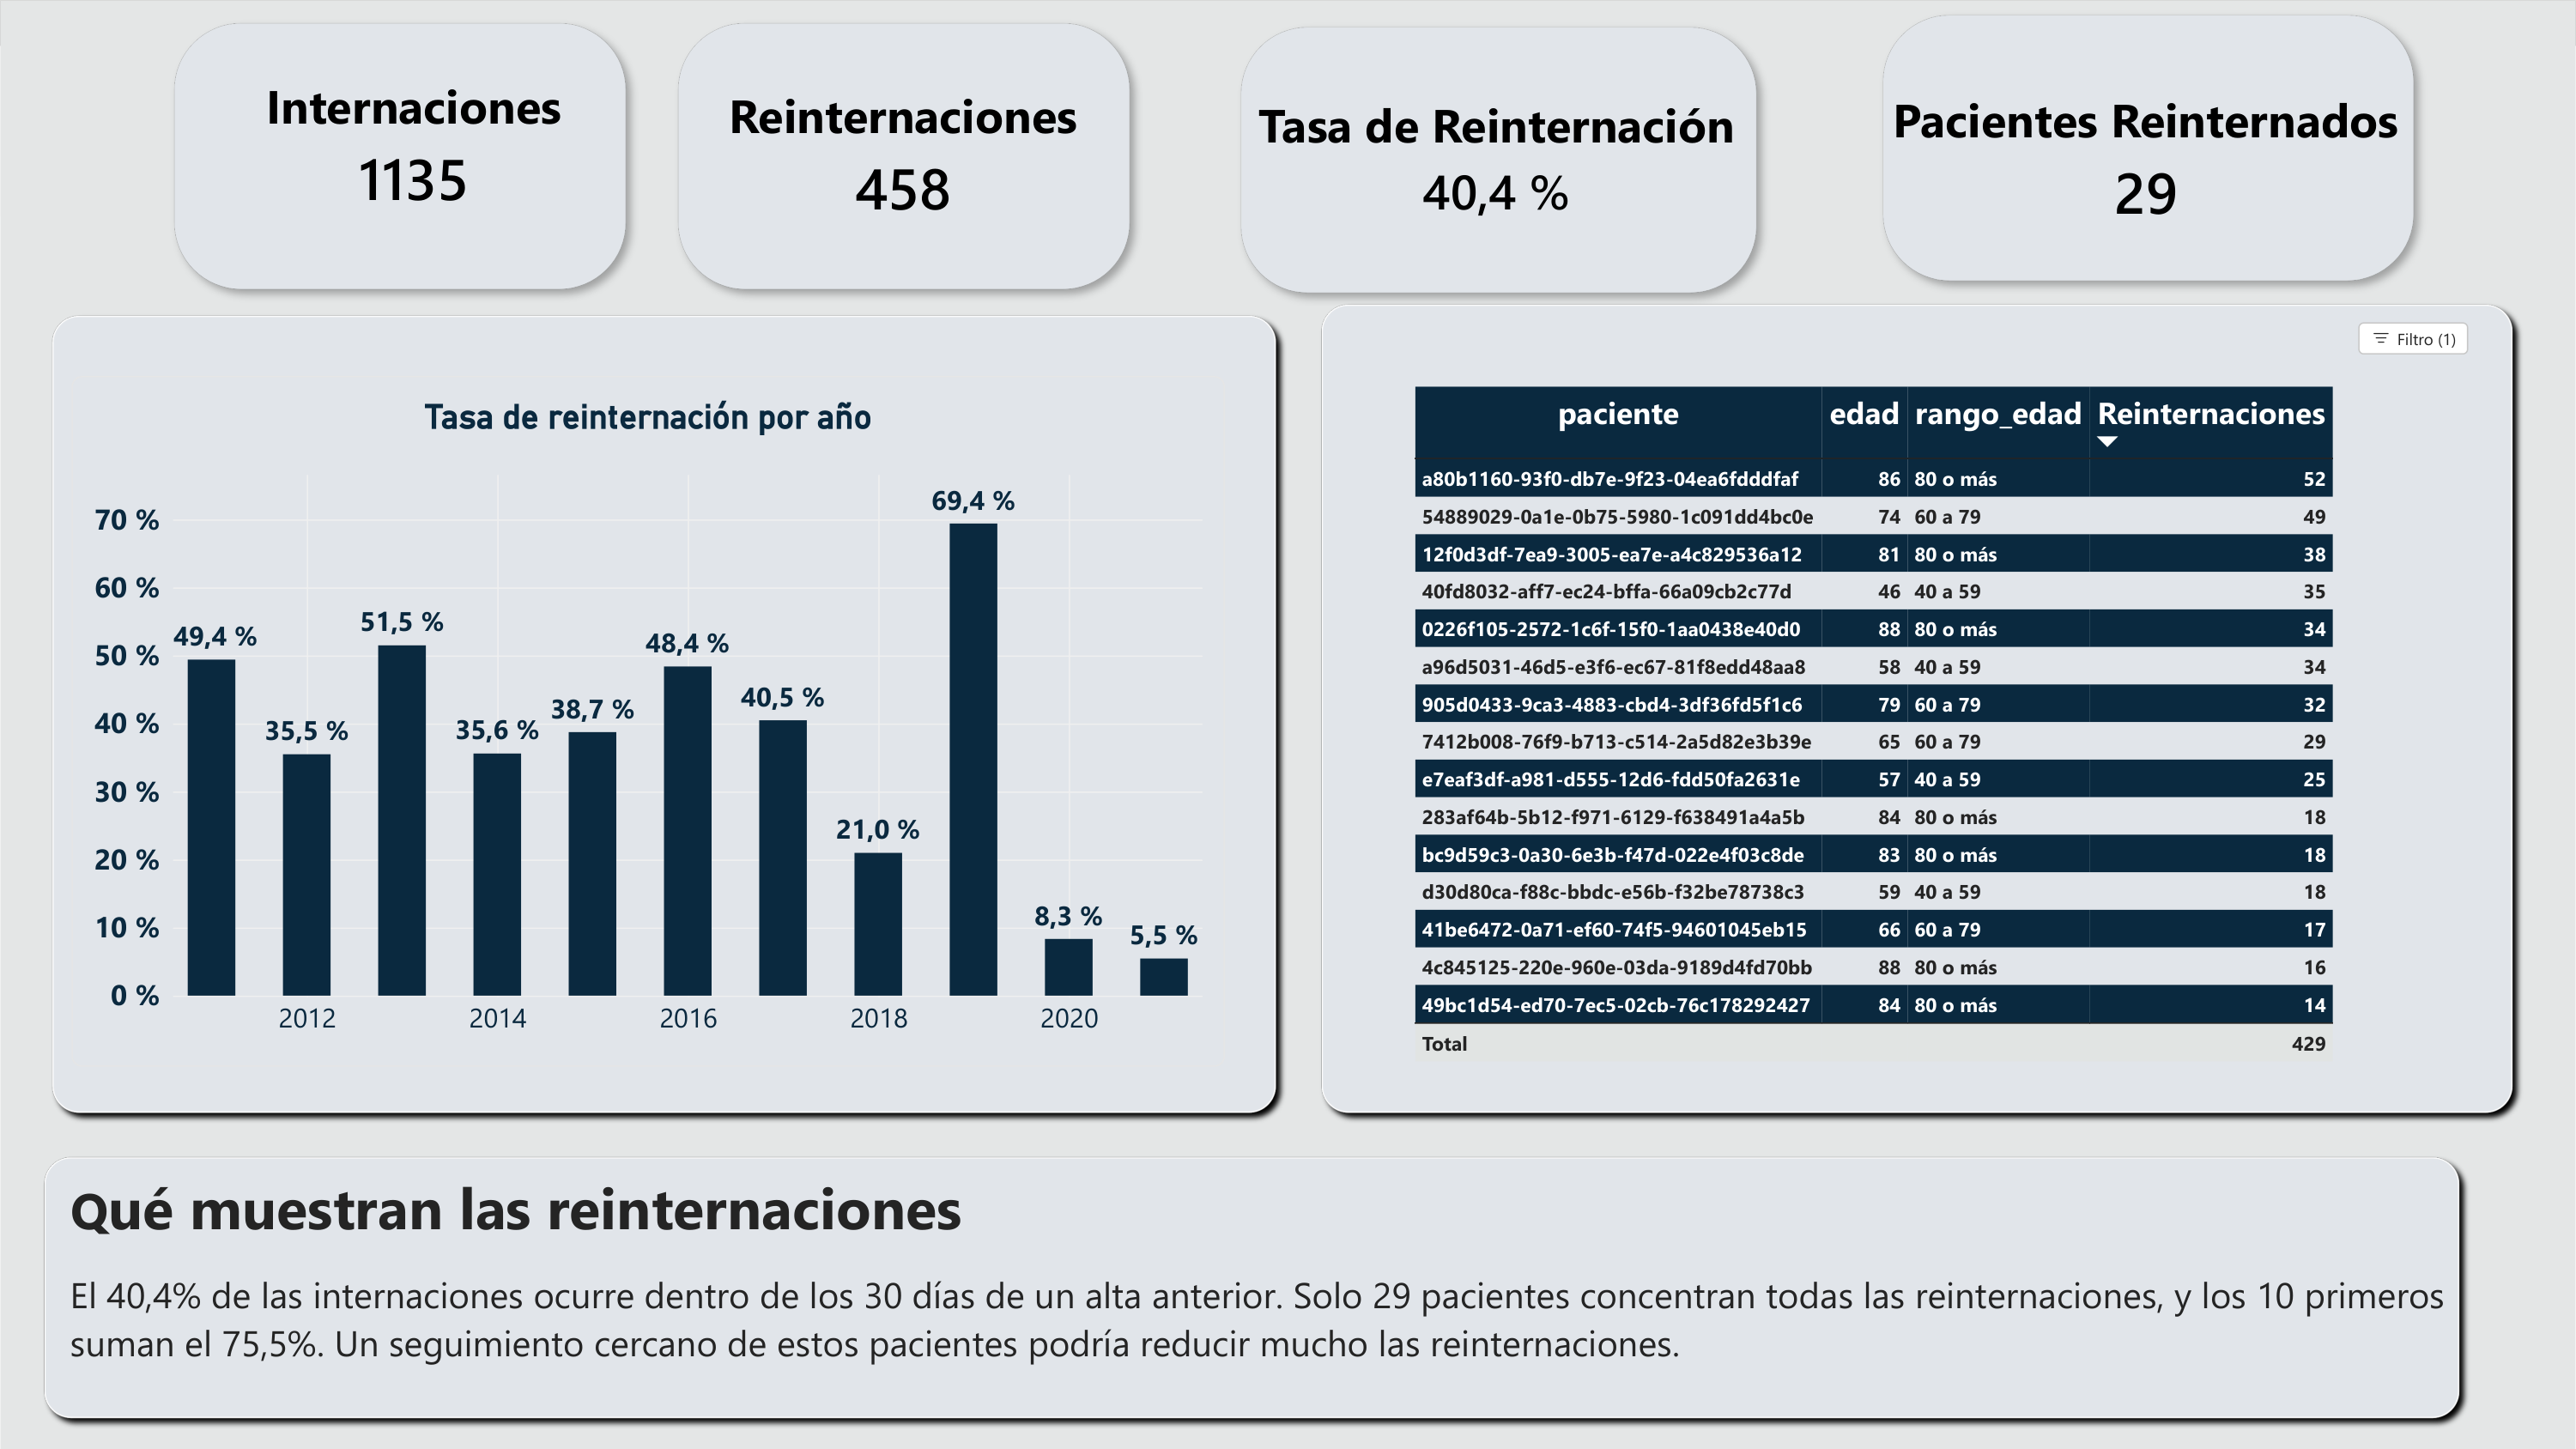

This screenshot's page, from the dashboard's own definition file:
{"tool":"powerbi","page":{"name":"REINTERNACIONES","canvas":[1920,1080],"ordinal":5},"visuals":[{"type":"shape","box":[1393.2,0,416.9,220.3],"z":0},{"type":"shape","box":[913.7,8.6,406.1,220.3],"z":1000},{"type":"shape","box":[494.6,6.5,358.7,219.6],"z":2000},{"type":"shape","box":[118.8,6.5,358.7,219.6],"z":3000},{"type":"shape","box":[24,854,1818,212],"z":4000},{"type":"shape","box":[976,218,906,620],"z":5000},{"type":"shape","box":[30,226,930,612],"z":6000},{"type":"cardVisual","fields":{"Data":["medidas.Internaciones"]},"box":[118.8,0,378.4,217],"z":7000},{"type":"cardVisual","fields":{"Data":["medidas.Reinternaciones"]},"box":[505.4,30.2,337,171.7],"z":8000},{"type":"cardVisual","fields":{"Data":["medidas.Tasa de Reinternación"]},"box":[912.5,20,405,195],"z":9000},{"type":"cardVisual","fields":{"Data":["medidas.Pacientes Reinternados"]},"box":[1391,32.4,417.4,172.5],"z":10000},{"type":"clusteredColumnChart","title":"Tasa de reinternación por año","fields":{"Category":["reinternaciones.anio"],"Y":["medidas.Tasa de Reinternación"]},"box":[52.5,280,860,515],"z":11000},{"type":"tableEx","fields":{"Values":["dim_pacientes.id_paciente","dim_pacientes.edad","dim_pacientes.rango_edad","medidas.Reinternaciones"]},"box":[1038,218,826,598],"z":12000},{"type":"textbox","box":[52,870,1830,180],"z":13000}]}

Visuals, with their boxes in screenshot pixels (x1, y1, x2, y2), scaled from the page's 1920x1080 canvas onto the 2576x1449 screenshot:
shape: Rect(1870, 0, 2428, 295)
shape: Rect(1226, 11, 1771, 307)
shape: Rect(664, 9, 1145, 303)
shape: Rect(160, 9, 640, 303)
shape: Rect(33, 1146, 2471, 1430)
shape: Rect(1310, 293, 2525, 1125)
shape: Rect(40, 303, 1288, 1125)
cardVisual - medidas.Internaciones: Rect(160, 0, 667, 291)
cardVisual - medidas.Reinternaciones: Rect(678, 40, 1130, 271)
cardVisual - medidas.Tasa de Reinternación: Rect(1224, 27, 1767, 288)
cardVisual - medidas.Pacientes Reinternados: Rect(1866, 44, 2427, 275)
"Tasa de reinternación por año" clusteredColumnChart: Rect(70, 376, 1224, 1067)
tableEx - dim_pacientes.id_paciente x dim_pacientes.edad: Rect(1392, 293, 2500, 1094)
textbox: Rect(70, 1167, 2525, 1409)
